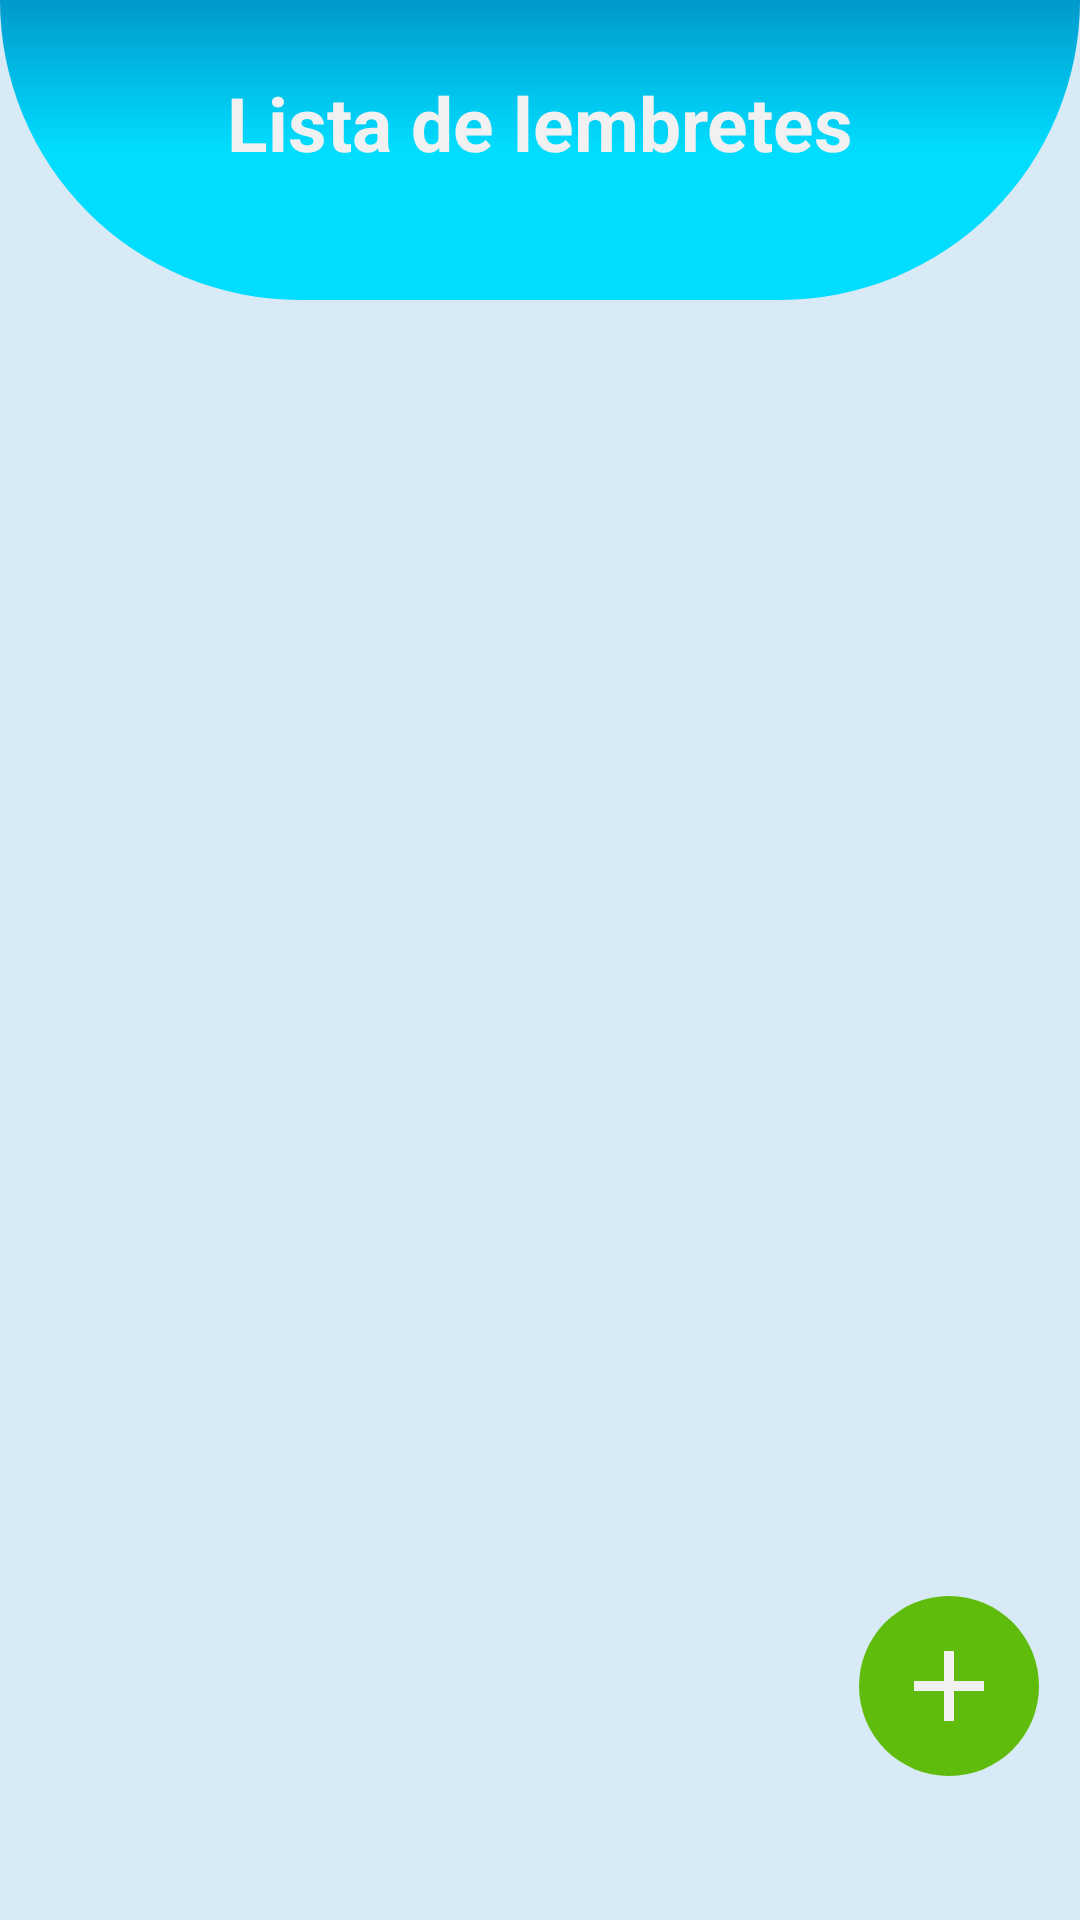

Named icons in this screenshot (1080w x 1920h) and their centers, point (x, y):
add: point (949, 1686)
